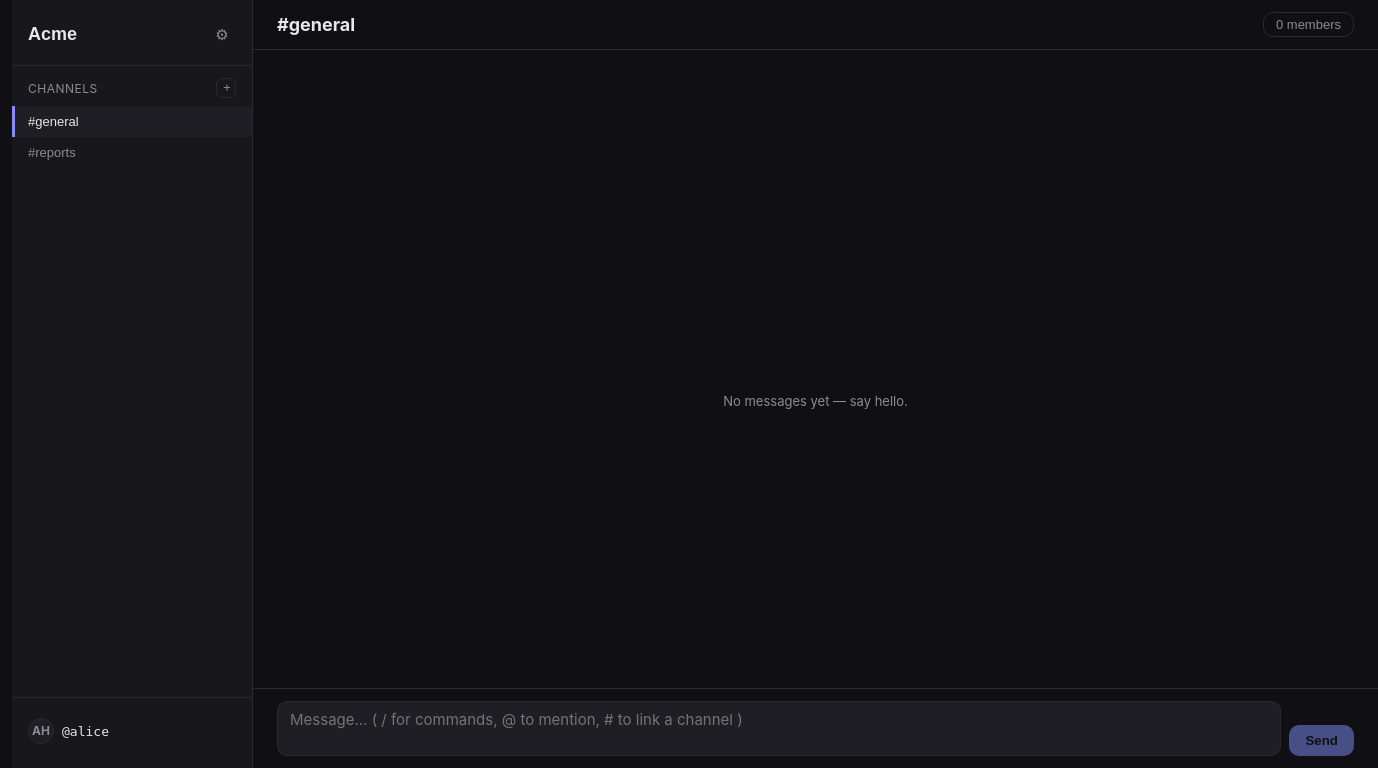
AuthedShell's Settings entry points (SMAC-85 fix: clickable settings) › desktop: the rail gear button opens Settings
Expected: the heading "#general" is shown, [277,14,355,35]
Click the button named "Settings" at (222, 34), box [208,20,236,48]
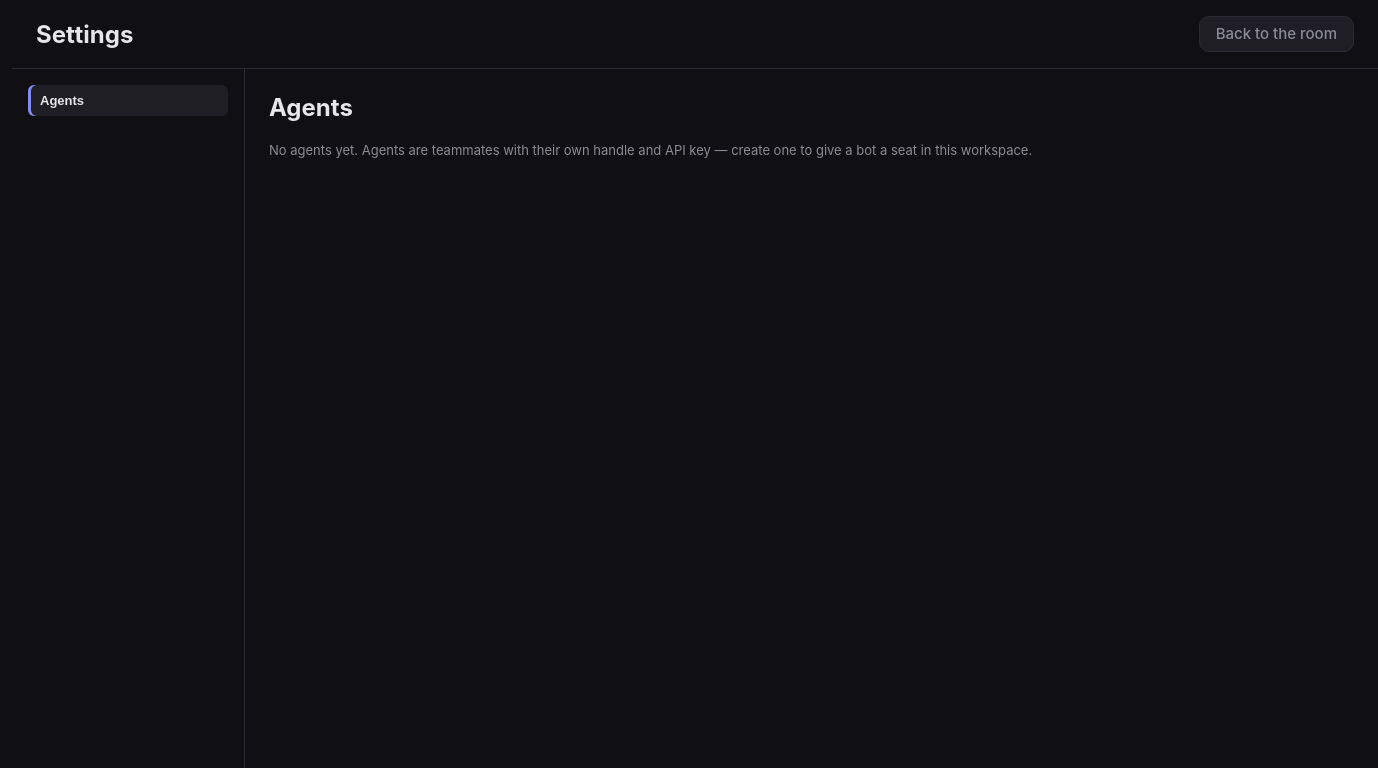
Result: the heading "Settings" is shown at [36,20,133,48]
